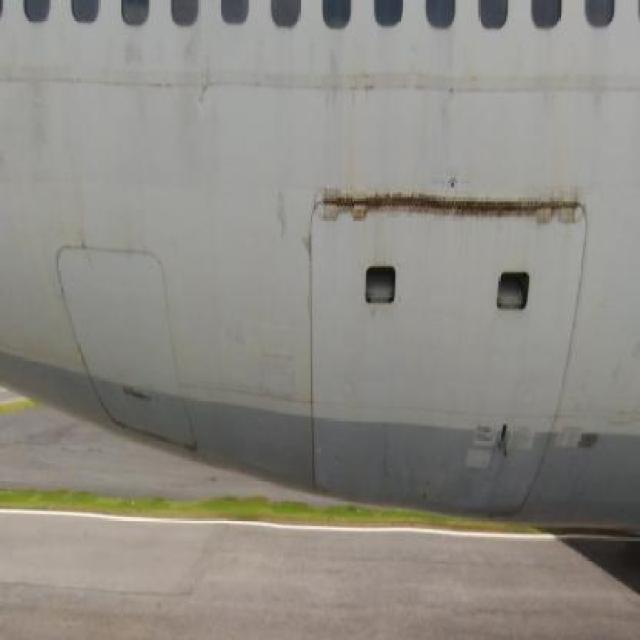Scartch: (304, 151, 599, 244)
